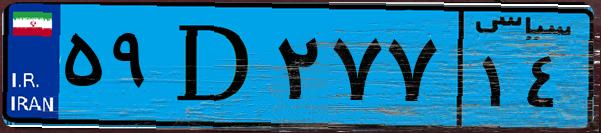1: (475, 38, 525, 113)
2: (270, 28, 330, 110)
4: (525, 38, 570, 115)
5: (57, 26, 110, 100)
7: (385, 28, 445, 110), (330, 28, 385, 110)
9: (110, 28, 158, 98)
D: (158, 12, 270, 120)
